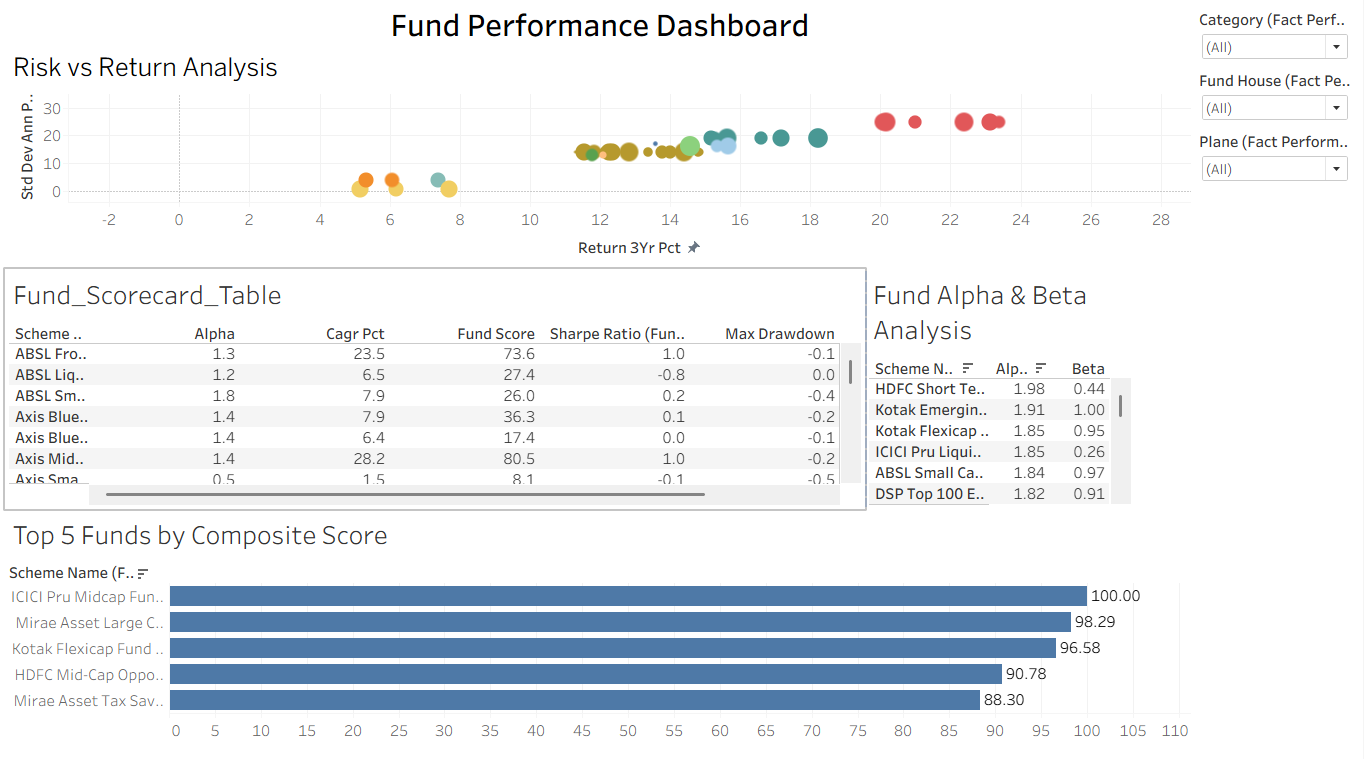

What the dashboard file says about the page in this screenshot:
{"tool":"tableau","page":{"name":"Fund Performance","canvas":[1366,768],"ordinal":0},"visuals":[{"type":"text","box":[8,8,1190,38]},{"type":"filter","title":"Risk_Return_Scatter","param":"[federated.1mid6ou1wm9pei1h3wwcr180mehc].[none:category (fact_performance.csv):n","box":[1198,8,160,61]},{"type":"worksheet","title":"Risk_Return_Scatter","mark":"Circle","rows":["std_dev_ann_pct"],"cols":["return_3yr_pct"],"box":[8,46,1190,226]},{"type":"filter","title":"Risk_Return_Scatter","param":"[federated.1mid6ou1wm9pei1h3wwcr180mehc].[none:fund_house (fact_performance.csv)","box":[1198,69,160,61]},{"type":"filter","title":"Risk_Return_Scatter","param":"[federated.1mid6ou1wm9pei1h3wwcr180mehc].[none:plane (fact_performance.csv):nk]","box":[1198,130,160,61]},{"type":"worksheet","title":"Fund_Scorecard_Table","mark":"Text","rows":["scheme_name (fund_scorecard.csv)"],"box":[8,272,860,240]},{"type":"worksheet","title":"Alpha_Beta_Table","mark":"Automatic","rows":["scheme_name"],"box":[868,272,330,240]},{"type":"worksheet","title":"Top5_Funds","mark":"Automatic","rows":["scheme_name (fund_scorecard.csv)"],"cols":["fund_score"],"box":[8,512,1190,241]}]}

Visuals, with their boxes in screenshot pixels (x1, y1, x2, y2), scaled from the page's 1366x768 canvas onto the 1364x759 screenshot:
text: [x1=8, y1=8, x2=1196, y2=45]
"Risk_Return_Scatter" filter: [x1=1196, y1=8, x2=1356, y2=68]
"Risk_Return_Scatter" worksheet (Circle marks): [x1=8, y1=45, x2=1196, y2=269]
"Risk_Return_Scatter" filter: [x1=1196, y1=68, x2=1356, y2=128]
"Risk_Return_Scatter" filter: [x1=1196, y1=128, x2=1356, y2=189]
"Fund_Scorecard_Table" worksheet (Text marks): [x1=8, y1=269, x2=867, y2=506]
"Alpha_Beta_Table" worksheet: [x1=867, y1=269, x2=1196, y2=506]
"Top5_Funds" worksheet: [x1=8, y1=506, x2=1196, y2=744]
